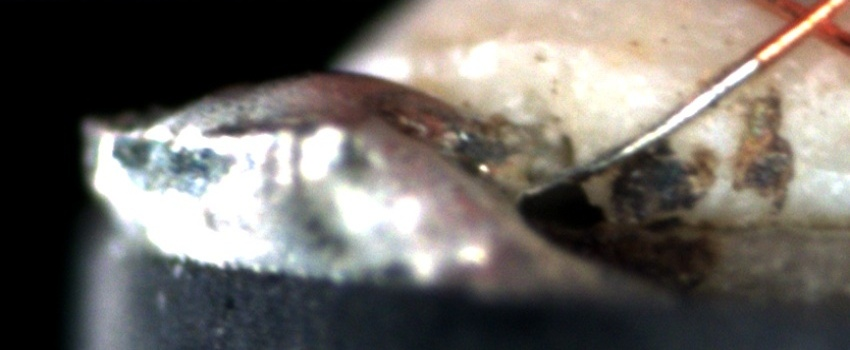CL: (769, 1, 844, 48)
TS: (520, 56, 762, 194)
